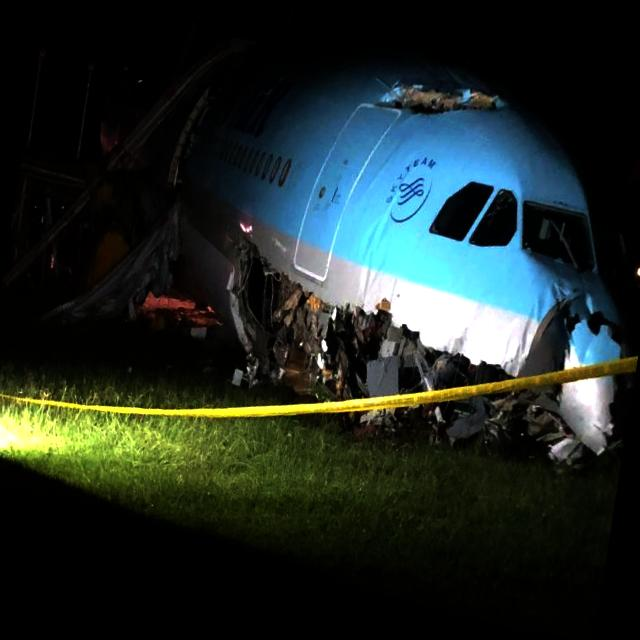crack: (371, 72, 511, 136)
